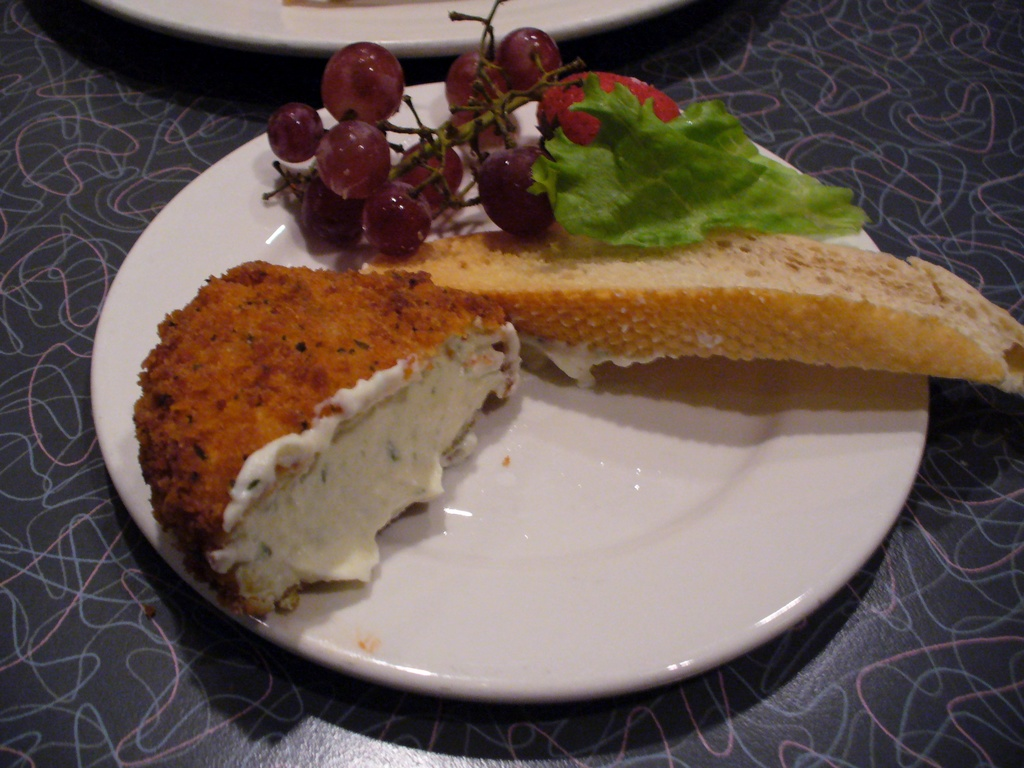sandwich: (131, 257, 525, 620), (367, 218, 1023, 400)
